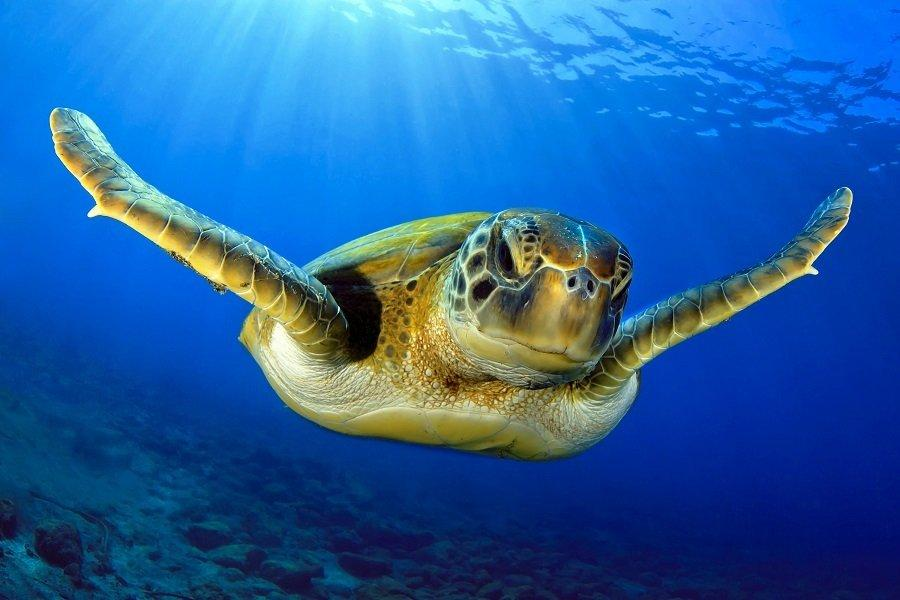turtle: (437, 194, 638, 396)
